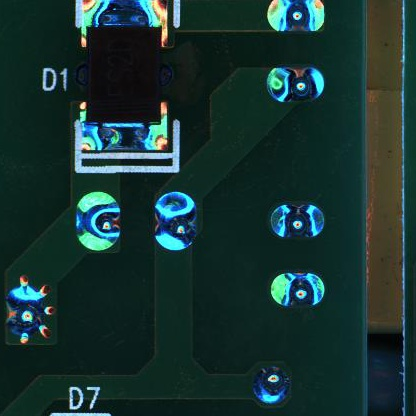spot: (1, 275, 58, 347), (153, 190, 200, 254), (74, 190, 121, 252), (265, 200, 327, 240), (268, 271, 328, 308), (267, 66, 325, 104), (266, 1, 328, 34), (251, 364, 293, 405)
